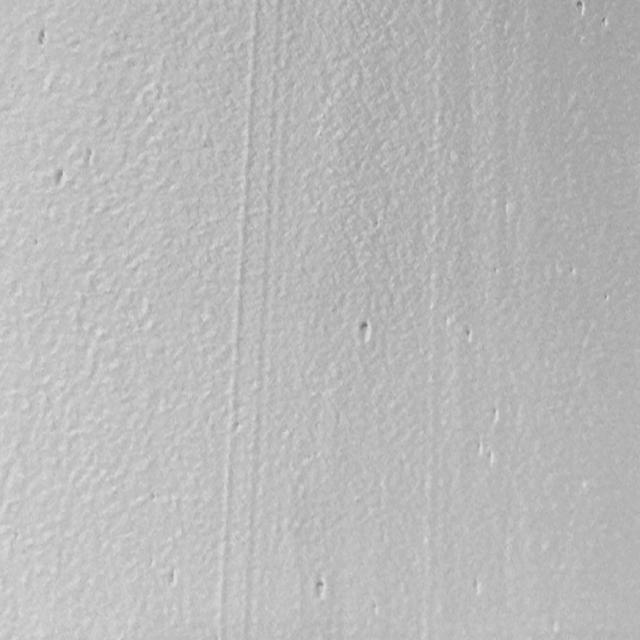pin holes: (356, 319, 377, 346), (310, 576, 330, 604), (483, 404, 503, 431), (467, 576, 487, 600), (460, 322, 478, 346), (51, 167, 68, 190), (164, 568, 180, 591), (38, 28, 51, 49), (574, 0, 588, 18), (83, 149, 96, 168), (598, 15, 610, 31)
